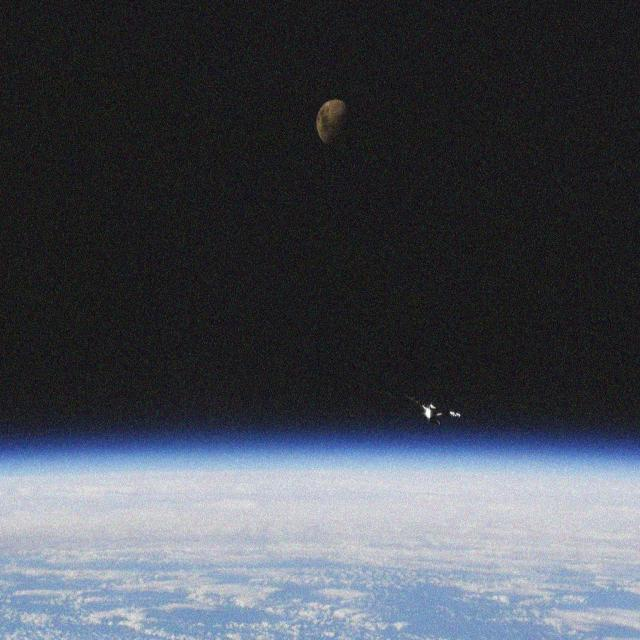satellite: (377, 377, 483, 430)
